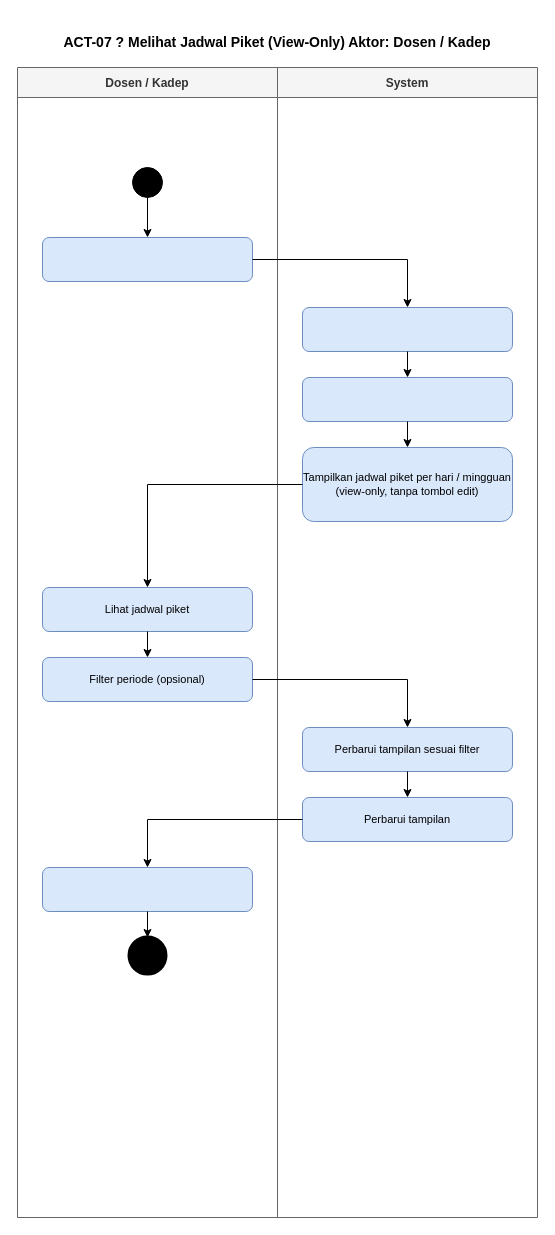
The diagram is 555 pixels wide and 1235 high, and some of its shapes have lost their labels. Here are the shapes that lost their labels. From the top down, the box of each, then its label:
(42, 236, 252, 282): Buka menu Jadwal Piket
(302, 306, 512, 352): Cek autentikasi & role
(302, 376, 512, 422): Ambil data jadwal piket
(42, 866, 252, 912): Lihat jadwal sesuai filter
